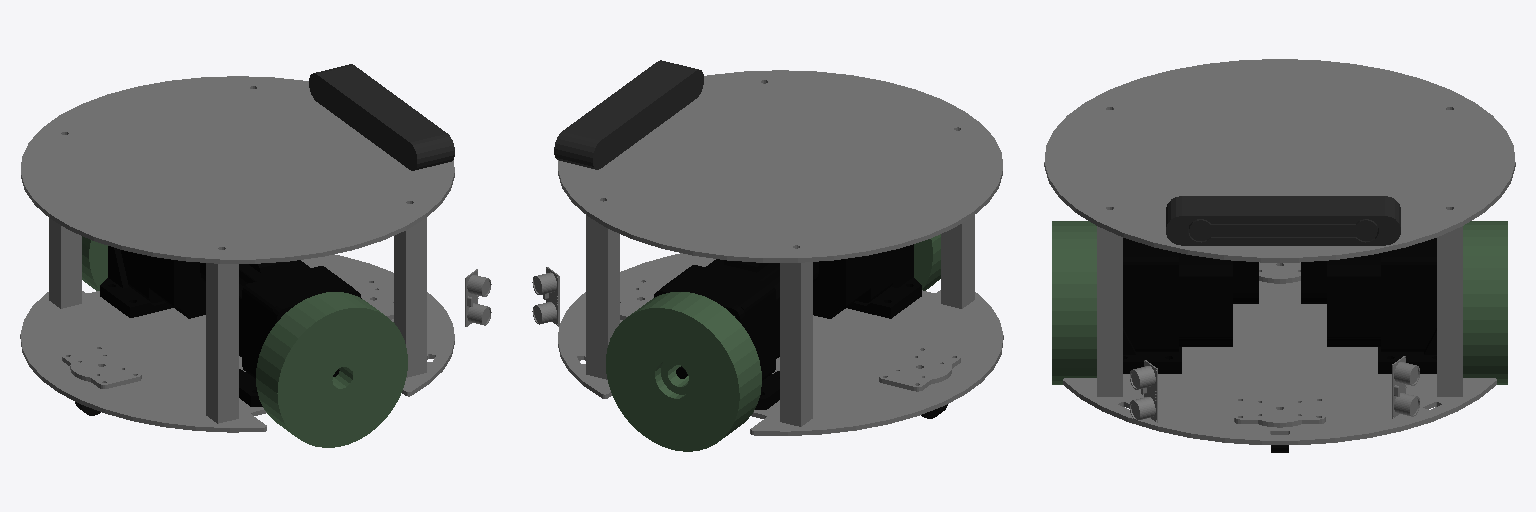
The robot description file, URDF, robot "bucketbot_description":
<robot
  name="bucketbot_description">
  <link name="base_footprint"/>
    <joint name="base_joint" type="fixed">
      <origin xyz="0 0 0.0102" rpy="0 0 0" />
      <parent link="base_footprint"/>
      <child link="base_link" />
    </joint>
  <link
    name="base_link">
    <inertial>
      <origin
        xyz="-0.0499953708642669 0.273628593838788 0.235169610668493"
        rpy="0 0 0" />
      <mass
        value="0.367366200465706" />
      <inertia
        ixx="0.00331510122406848"
        ixy="5.85609399730688E-21"
        ixz="-1.82174000558671E-19"
        iyy="0.00553148809580428"
        iyz="-4.22084839832949E-08"
        izz="0.00221806653528144" />
    </inertial>
    <visual>
      <origin
        xyz="0 0 0"
        rpy="0 0 3.1415" />
      <geometry>
        <mesh
          filename="package://bucketbot_description/meshes/base_link.stl" />
      </geometry>
      <material
        name="">
        <color
          rgba="0.5 0.5 0.5 1" />
      </material>
    </visual>
    <collision>
      <origin
        xyz="0 0 0"
        rpy="0 0 0" />
      <geometry>
        <mesh
          filename="package://bucketbot_description/meshes/base_link.stl" />
      </geometry>
    </collision>
  </link>
  <link
    name="motor_link">
    <inertial>
      <origin
        xyz="1.1102E-16 0.0023428 0.127"
        rpy="0 0 0" />
      <mass
        value="1.3269" />
      <inertia
        ixx="0.0113"
        ixy="-2.4346E-19"
        ixz="1.0262E-17"
        iyy="0.011261"
        iyz="-1.4454E-10"
        izz="0.0015606" />
    </inertial>
    <visual>
      <origin
        xyz="0 0 0"
        rpy="0 0 0" />
      <geometry>
        <mesh
          filename="package://bucketbot_description/meshes/motor_link.stl" />
      </geometry>
      <material
        name="">
        <color
          rgba="0.05 0.05 0.05 1" />
      </material>
    </visual>
    <collision>
      <origin
        xyz="0 0 0"
        rpy="0 0 0" />
      <geometry>
        <mesh
          filename="package://bucketbot_description/meshes/motor_link.stl" />
      </geometry>
    </collision>
  </link>
  <joint
    name="motor_joint"
    type="fixed">
    <origin
      xyz="0 -0.127 0.0515"
      rpy="-1.5708 -1.6653E-15 -2.6914E-16" />
    <parent
      link="base_link" />
    <child
      link="motor_link" />
    <axis
      xyz="0 0 0" />
  </joint>
  <link
    name="omini_wheel_link">
    <inertial>
      <origin
        xyz="-1.201E-07 -0.014473 -0.13577"
        rpy="0 0 0" />
      <mass
        value="0.024238" />
      <inertia
        ixx="0.00041417"
        ixy="1.0458E-11"
        ixz="-1.1015E-11"
        iyy="0.00041218"
        iyz="1.143E-06"
        izz="4.0051E-06" />
    </inertial>
    <visual>
      <origin
        xyz="0 0 0"
        rpy="0 0 0" />
      <geometry>
        <mesh
          filename="package://bucketbot_description/meshes/omini_wheel_link.stl" />
      </geometry>
      <material
        name="">
        <color
          rgba="0.1 0.1 0.1 1" />
      </material>
    </visual>
    <collision>
      <origin
        xyz="0 0 0"
        rpy="0 0 0" />
      <geometry>
        <mesh
          filename="package://bucketbot_description/meshes/omini_wheel_link.stl" />
      </geometry>
    </collision>
  </link>
  <joint
    name="omini_wheel_joint"
    type="fixed">
    <origin
      xyz="0.13 0 0.0025"
      rpy="1.5708 -4.482E-31 1.5708" />
    <parent
      link="base_link" />
    <child
      link="omini_wheel_link" />
    <axis
      xyz="0 0 0" />
  </joint>
  <link
    name="pole_link">
    <inertial>
      <origin
        xyz="0.13 0.075 0.09"
        rpy="0 0 0" />
      <mass
        value="0.23757" />
      <inertia
        ixx="0.0023712"
        ixy="4.2381E-19"
        ixz="-1.0842E-19"
        iyy="0.0059551"
        iyz="-2.881E-19"
        izz="0.0044618" />
    </inertial>
    <visual>
      <origin
        xyz="0 0 0"
        rpy="0 0 0" />
      <geometry>
        <mesh
          filename="package://bucketbot_description/meshes/pole_link.stl" />
      </geometry>
      <material
        name="">
        <color
          rgba="0.5 0.5 0.5 1" />
      </material>
    </visual>
    <collision>
      <origin
        xyz="0 0 0"
        rpy="0 0 0" />
      <geometry>
        <mesh
          filename="package://bucketbot_description/meshes/pole_link.stl" />
      </geometry>
    </collision>
  </link>
  <joint
    name="pole_joint"
    type="fixed">
    <origin
      xyz="-0.09 -0.13 0.004"
      rpy="1.5708 -4.482E-31 1.5708" />
    <parent
      link="base_link" />
    <child
      link="pole_link" />
    <axis
      xyz="0 0 0" />
  </joint>
  <link
    name="top_plate_link">
    <inertial>
      <origin
        xyz="0 0.002 0"
        rpy="0 0 0" />
      <mass
        value="0.40662" />
      <inertia
        ixx="0.0032942"
        ixy="5.1699E-24"
        ixz="-2.068E-22"
        iyy="0.0065826"
        iyz="2.5849E-24"
        izz="0.0032895" />
    </inertial>
    <visual>
      <origin
        xyz="0 0 0"
        rpy="0 0 0" />
      <geometry>
        <mesh
          filename="package://bucketbot_description/meshes/top_plate_link.stl" />
      </geometry>
      <material
        name="">
        <color
          rgba="0.5 0.5 0.5 1" />
      </material>
    </visual>
    <collision>
      <origin
        xyz="0 0 0"
        rpy="0 0 0" />
      <geometry>
        <mesh
          filename="package://bucketbot_description/meshes/top_plate_link.stl" />
      </geometry>
    </collision>
  </link>
  <joint
    name="top_plate_joint"
    type="fixed">
    <origin
      xyz="0 0 0.154"
      rpy="1.5708 -4.482E-31 1.5708" />
    <parent
      link="base_link" />
    <child
      link="top_plate_link" />
    <axis
      xyz="0 0 0" />
  </joint>
  <!--link
    name="camera_link">
    <inertial>
      <origin
        xyz="1.3878E-17 1.1102E-16 -0.00026767"
        rpy="0 0 0" />
      <mass
        value="0.154" />
      <inertia
        ixx="2.4237E-05"
        ixy="-9.6537E-22"
        ixz="-8.3256E-21"
        iyy="0.00041068"
        iyz="-2.6916E-22"
        izz="0.00040212" />
    </inertial>
    <visual>
      <origin
        xyz="0 0 0"
        rpy="0 0 0" />
      <geometry>
        <mesh
          filename="package://bucketbot_description/meshes/camera_link.stl" />
      </geometry>
      <material
        name="">
        <color
          rgba="0.2 0.2 0.2 1" />
      </material>
    </visual>
    <collision>
      <origin
        xyz="0 0 0"
        rpy="0 0 0" />
      <geometry>
        <mesh
          filename="package://bucketbot_description/meshes/camera_link.stl" />
      </geometry>
    </collision>
  </link>
  <joint
    name="camera_joint"
    type="fixed">
    <origin
      xyz="0.13946 0.0026256 0.1705"
      rpy="1.5708 -4.482E-31 1.5708" />
    <parent
      link="base_link" />
    <child
      link="camera_link" />
    <axis
      xyz="0 0 0" />
  </joint-->

   <link name="usb_cam">
    <inertial>
      <origin
        xyz="1.3878E-17 1.1102E-16 -0.00026767"
        rpy="0 0 0" />
      <mass
        value="0.154" />
      <inertia
        ixx="2.4237E-05"
        ixy="-9.6537E-22"
        ixz="-8.3256E-21"
        iyy="0.00041068"
        iyz="-2.6916E-22"
        izz="0.00040212" />
    </inertial>
    <visual>
      <origin
        xyz="0 0 0"
        rpy="0 0 0" />
      <geometry>
        <mesh
          filename="package://bucketbot_description/meshes/camera_link.stl" />
      </geometry>
      <material
        name="">
        <color
          rgba="0.2 0.2 0.2 1" />
      </material>
    </visual>
    <collision>
      <origin
        xyz="0 0 0"
        rpy="0 0 0" />
      <geometry>
        <mesh
          filename="package://bucketbot_description/meshes/camera_link.stl" />
      </geometry>
    </collision>
  </link>
  <joint
    name="usb_camera_joint"
    type="fixed">
    <origin
      xyz="0.13946 0.0026256 0.1705"
      rpy="1.5708 -4.482E-31 1.5708" />
    <parent
      link="base_link" />
    <child
      link="usb_cam" />
    <axis
      xyz="0 0 0" />
  </joint>

  <link
    name="laser_link">
    <inertial>
      <origin
        xyz="-0.0034294 -1.7992E-10 -0.0064564"
        rpy="0 0 0" />
      <mass
        value="0.14728" />
      <inertia
        ixx="6.2168E-05"
        ixy="2.8308E-12"
        ixz="5.4164E-06"
        iyy="8.3311E-05"
        iyz="3.0404E-13"
        izz="0.00011395" />
    </inertial>
    <visual>
      <origin
        xyz="0 0 0"
        rpy="0 0 0" />
      <geometry>
        <mesh
          filename="package://bucketbot_description/meshes/laser_link.STL" />
      </geometry>
      <material
        name="">
        <color
          rgba="0.75294 0.75294 0.75294 1" />
      </material>
    </visual>
    <collision>
      <origin
        xyz="0 0 0"
        rpy="0 0 0" />
      <geometry>
        <mesh
          filename="package://bucketbot_description/meshes/laser_link.STL" />
      </geometry>
    </collision>
  </link>
  <joint
    name="laser"
    type="fixed">
    <origin
      xyz="0.1425 0 0.204"
      rpy="0 0 -3.1416" />
    <parent
      link="base_link" />
    <child
      link="laser_link" />
    <axis
      xyz="0 0 0" />
  </joint>

  <link
    name="FL_ultrasonic_link">
    <inertial>
      <origin
        xyz="0 0 0"
        rpy="0 0 0" />
      <mass
        value="0.42561" />
      <inertia
        ixx="0.00047626"
        ixy="-2.6156E-19"
        ixz="1.3553E-20"
        iyy="0.00086139"
        iyz="-5.6288E-20"
        izz="0.00047626" />
    </inertial>
    <visual>
      <origin
        xyz="0 -0.01022 -0.02275"
        rpy="0 -1.5708 -1.0472" />
      <geometry>
        <mesh
          filename="package://bucketbot_description/meshes/ultrasonic_link.STL" />
      </geometry>
      <material
        name="">
        <color
          rgba="0.5 0.5 0.5 1" />
      </material>
    </visual>
    <collision>
      <origin
        xyz="0 0 0"
        rpy="0 0 0" />
      <geometry>
        <mesh
          filename="package://bucketbot_description/meshes/ultrasonic_link.STL" />
      </geometry>
    </collision>
  </link>
  <joint
    name="FL_ultrasonic_joint"
    type="fixed">
    <origin
      xyz="0.163 0.094 0.04"
      rpy="0 0 0.5236" />
    <parent
      link="base_link" />
    <child
      link="FL_ultrasonic_link" />
    <axis
      xyz="0 0 0" />
  </joint>

  <link
    name="FR_ultrasonic_link">
    <inertial>
      <origin
        xyz="0 0 0"
        rpy="0 0 0" />
      <mass
        value="0.42561" />
      <inertia
        ixx="0.00047626"
        ixy="-2.6156E-19"
        ixz="1.3553E-20"
        iyy="0.00086139"
        iyz="-5.6288E-20"
        izz="0.00047626" />
    </inertial>
    <visual>
      <origin
        xyz="0 -0.01022 -0.02275"
        rpy="0 -1.5708 -2.0944" />
      <geometry>
        <mesh
          filename="package://bucketbot_description/meshes/ultrasonic_link.STL" />
      </geometry>
      <material
        name="">
        <color
          rgba="0.5 0.5 0.5 1" />
      </material>
    </visual>
    <collision>
      <origin
        xyz="0 0 0"
        rpy="0 0 0" />
      <geometry>
        <mesh
          filename="package://bucketbot_description/meshes/ultrasonic_link.STL" />
      </geometry>
    </collision>
  </link>
  <joint
    name="FR_ultrasonic_joint"
    type="fixed">
    <origin
      xyz="0.163 -0.094 0.04"
      rpy="0 0 -0.5236" />
    <parent
      link="base_link" />
    <child
      link="FR_ultrasonic_link" />
    <axis
      xyz="0 0 0" />
  </joint>
 
  <link
    name="left_wheel_link">
    <inertial>
      <origin
        xyz="0.02275 0.00083 0.01022"
        rpy="0 0 0" />
      <mass
        value="0.42561" />
      <inertia
        ixx="0.00047626"
        ixy="-2.6156E-19"
        ixz="1.3553E-20"
        iyy="0.00086139"
        iyz="-5.6288E-20"
        izz="0.00047626" />
    </inertial>
    <visual>
      <origin
        xyz="0 0 0"
        rpy="0 0 0" />
      <geometry>
        <mesh
          filename="package://bucketbot_description/meshes/left_wheel_link.stl" />
      </geometry>
      <material
        name="">
        <color
          rgba="0.3 0.4 0.3 1" />
      </material>
    </visual>
    <collision>
      <origin
        xyz="0 0 0"
        rpy="0 0 0" />
      <geometry>
        <mesh
          filename="package://bucketbot_description/meshes/left_wheel_link.stl" />
      </geometry>
    </collision>
  </link>
  <joint
    name="left_wheel_joint"
    type="continuous">
    <origin
      xyz="0 0.138 0.0365"
      rpy="3.1416 -1.0226 3.1416" />
    <parent
      link="base_link" />
    <child
      link="left_wheel_link" />
    <axis
      xyz="0 1 0" />
  </joint>
  <link
    name="right_wheel_link">
    <inertial>
      <origin
        xyz="0 0.017846 -2.7756E-17"
        rpy="0 0 0" />
      <mass
        value="0.42561" />
      <inertia
        ixx="0.00047626"
        ixy="1.7909E-20"
        ixz="-5.4217E-20"
        iyy="0.00086139"
        iyz="5.2443E-20"
        izz="0.00047626" />
    </inertial>
    <visual>
      <origin
        xyz="0 0 0"
        rpy="0 0 0" />
      <geometry>
        <mesh
          filename="package://bucketbot_description/meshes/right_wheel_link.stl" />
      </geometry>
      <material
        name="">
        <color
          rgba="0.3 0.4 0.3 1" />
      </material>
    </visual>
    <collision>
      <origin
        xyz="0 0 0"
        rpy="0 0 0" />
      <geometry>
        <mesh
          filename="package://bucketbot_description/meshes/right_wheel_link.stl" />
      </geometry>
    </collision>
  </link>
  <joint
    name="right_wheel_joint"
    type="continuous">
    <origin
      xyz="0 -0.174 0.0365"
      rpy="0 -1.5708 0" />
    <parent
      link="base_link" />
    <child
      link="right_wheel_link" />
    <axis
      xyz="0 1 0" />
  </joint>
<!-- debug  add camera_link    xyz="1.3878E-17 1.1102E-16 -0.00026767" -->
  <link
    name="camera_link">
    <inertial>
      <origin
        xyz="0 0.16 0.35"
        rpy="0 0 0" />
      <mass
        value="0.154" />
      <inertia
        ixx="2.4237E-05"
        ixy="-9.6537E-22"
        ixz="-8.3256E-21"
        iyy="0.00041068"
        iyz="-2.6916E-22"
        izz="0.00040212" />
    </inertial>
    <visual>
      <origin
        xyz="0 0 0"
        rpy="1.5708 0 1.5708" />
      <geometry>
        <mesh
          filename="package://bucketbot_description/meshes/camera_link.stl" />
      </geometry>
      <material
        name="">
        <color
          rgba="0.2 0.2 0.2 1" />
      </material>
    </visual>
    <collision>
      <origin
        xyz="0 0 0"
        rpy="0 0 0" />
      <geometry>
        <mesh
          filename="package://bucketbot_description/meshes/camera_link.stl" />
      </geometry>
    </collision>
  </link>
  <joint
    name="camera_joint"
    type="fixed">
    <origin
      xyz="0.13946 0.0026256 0.1705"
      rpy="0 -4.482E-31 0" />
    <parent
      link="base_link" />
    <child
      link="camera_link" />
    <axis
      xyz="0 0 0" />
  </joint>
  <!--for camera sensor model -->
      <joint name="camera_depth_joint" type="fixed">
        <origin xyz="0.0 0.049 0.0" rpy="0 0 0" />
        <parent link="camera_link" />
        <child link="camera_depth_frame"/>
      </joint>
      <link name="camera_depth_frame"/>

      <joint name="camera_depth_optical_joint" type="fixed">
        <origin xyz="0 0 0" rpy="-1.5708 0.0 -1.5708" />
        <parent link="camera_depth_frame" />
        <child link="camera_depth_optical_frame"/>
      </joint>

      <link name="camera_depth_optical_frame"/>

      <joint name="camera_rgb_joint" type="fixed">
        <origin xyz="0.0 0.022 0.0" rpy="0 0 0" />
        <parent link="camera_link" />
        <child link="camera_rgb_frame"/>
      </joint>

      <link name="camera_rgb_frame"/>

      <joint name="camera_rgb_optical_joint" type="fixed">
        <origin xyz="0 0 0" rpy="-1.5708 0.0 -1.5708" />
        <parent link="camera_rgb_frame" />
        <child link="camera_rgb_optical_frame"/>
      </joint>
      <link name="camera_rgb_optical_frame"/>
</robot>

--- Render facts (derived) ---
The picture shows the robot from 3 angles, left to right: view 1: azimuth 30°, elevation 25°; view 2: azimuth 150°, elevation 25°; view 3: azimuth 270°, elevation 25°; orthographic projection.
Model bucketbot_description with 17 links and 16 joints (2 continuous, 14 fixed), rooted at base_footprint, posed every joint at zero.
Visible links, largest first — view 1: top_plate_link, base_link, right_wheel_link, motor_link, pole_link, usb_cam, FR_ultrasonic_link, left_wheel_link; view 2: top_plate_link, base_link, left_wheel_link, motor_link, pole_link, usb_cam, FL_ultrasonic_link, right_wheel_link; view 3: top_plate_link, base_link, motor_link, usb_cam, pole_link, left_wheel_link, right_wheel_link, FR_ultrasonic_link, FL_ultrasonic_link.
Link boxes in pixels (x1,y1,x2,y2): top_plate_link: (21, 76, 454, 263); base_link: (20, 254, 454, 432); right_wheel_link: (256, 292, 407, 447); motor_link: (100, 246, 361, 406); pole_link: (49, 218, 426, 423); usb_cam: (309, 64, 454, 170); FR_ultrasonic_link: (465, 269, 491, 326); left_wheel_link: (82, 236, 107, 290); top_plate_link: (558, 70, 1002, 262); base_link: (558, 253, 1003, 435); left_wheel_link: (606, 292, 761, 451); motor_link: (654, 244, 921, 409); pole_link: (586, 215, 974, 426); usb_cam: (554, 60, 703, 169); FL_ultrasonic_link: (532, 267, 559, 326); right_wheel_link: (914, 234, 940, 290); top_plate_link: (1044, 59, 1515, 262); base_link: (1063, 262, 1496, 444); motor_link: (1123, 238, 1436, 373); usb_cam: (1166, 196, 1400, 245); pole_link: (1097, 226, 1462, 396); left_wheel_link: (1463, 221, 1507, 384); right_wheel_link: (1052, 221, 1096, 384); FR_ultrasonic_link: (1130, 360, 1157, 422); FL_ultrasonic_link: (1392, 356, 1419, 418).
Bounding box of the posed robot: 0.361 × 0.3597 × 0.216 m (x, y, z).
11 mesh visuals loaded from 10 distinct referenced files (9 binary STL); not drawn: 1 (reference not matched to a file when rendering).